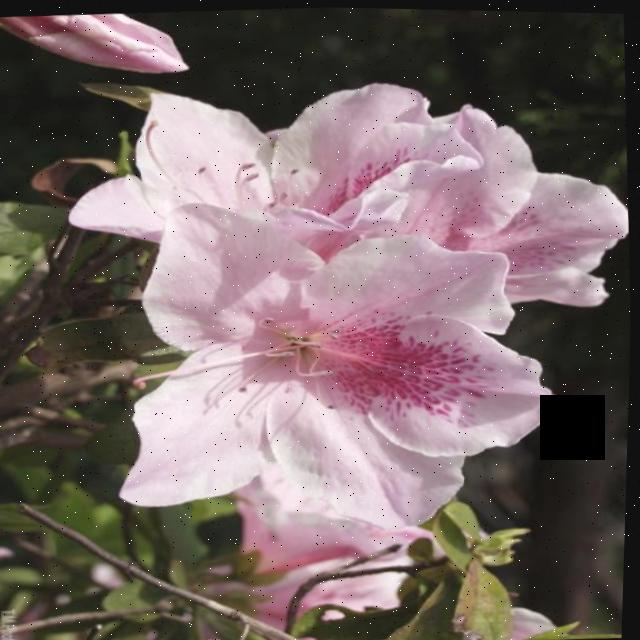azalea: (23, 60, 614, 570)
